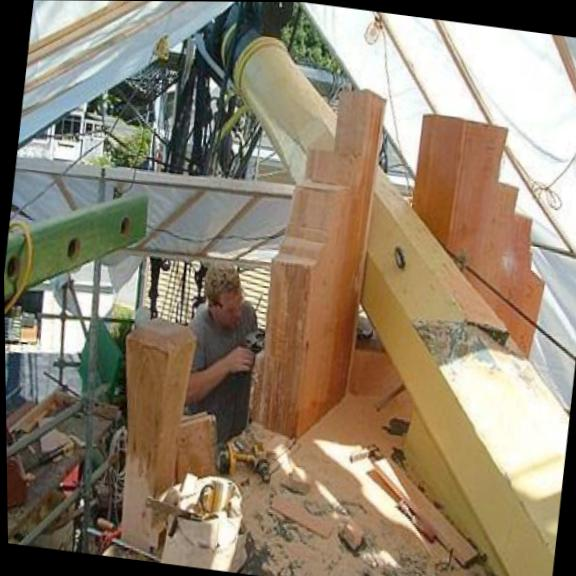no_safety_vest: (174, 309, 263, 438)
